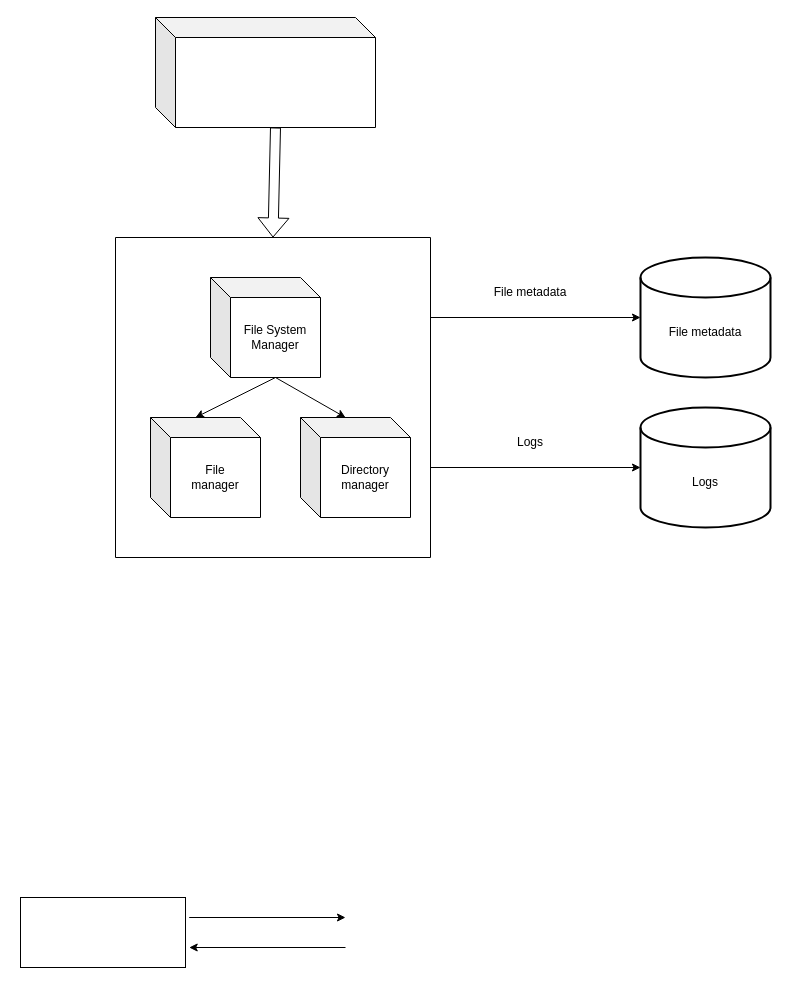
The diagram is 789 pixels wide and 985 high, and some of its shapes have lost their labels. Here are the shapes that lost their labels. From the top down, the centre of each, then its label:
At point (265, 72): "Task distributer".
At point (103, 932): "WEB BROWSER".
